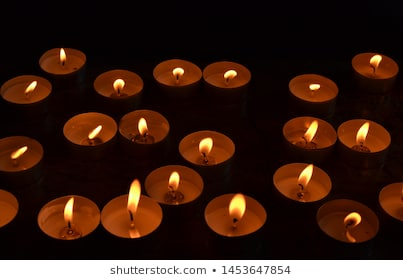Fire: (125, 177, 143, 217), (228, 193, 249, 222), (297, 164, 316, 190), (63, 196, 76, 226), (304, 120, 321, 142), (167, 171, 181, 197), (356, 121, 371, 145), (86, 122, 104, 141), (198, 137, 216, 156), (8, 144, 29, 160), (345, 210, 360, 231), (137, 117, 150, 137), (112, 77, 127, 94), (57, 48, 70, 67), (368, 53, 383, 69), (170, 65, 186, 79), (25, 80, 38, 95), (222, 70, 239, 81), (307, 83, 321, 92)
